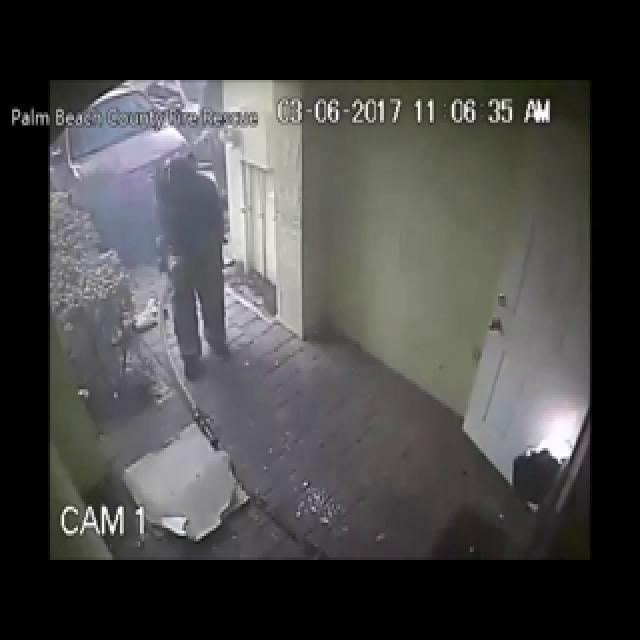explosion: (46, 96, 326, 498)
